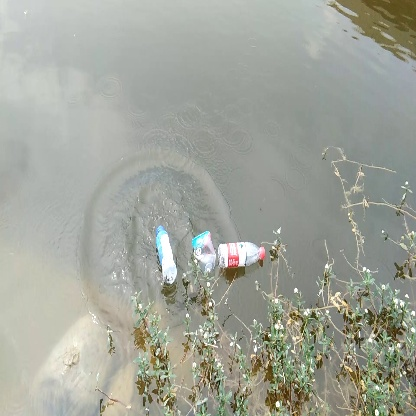bottle: (216, 235, 266, 272), (151, 223, 180, 286)
